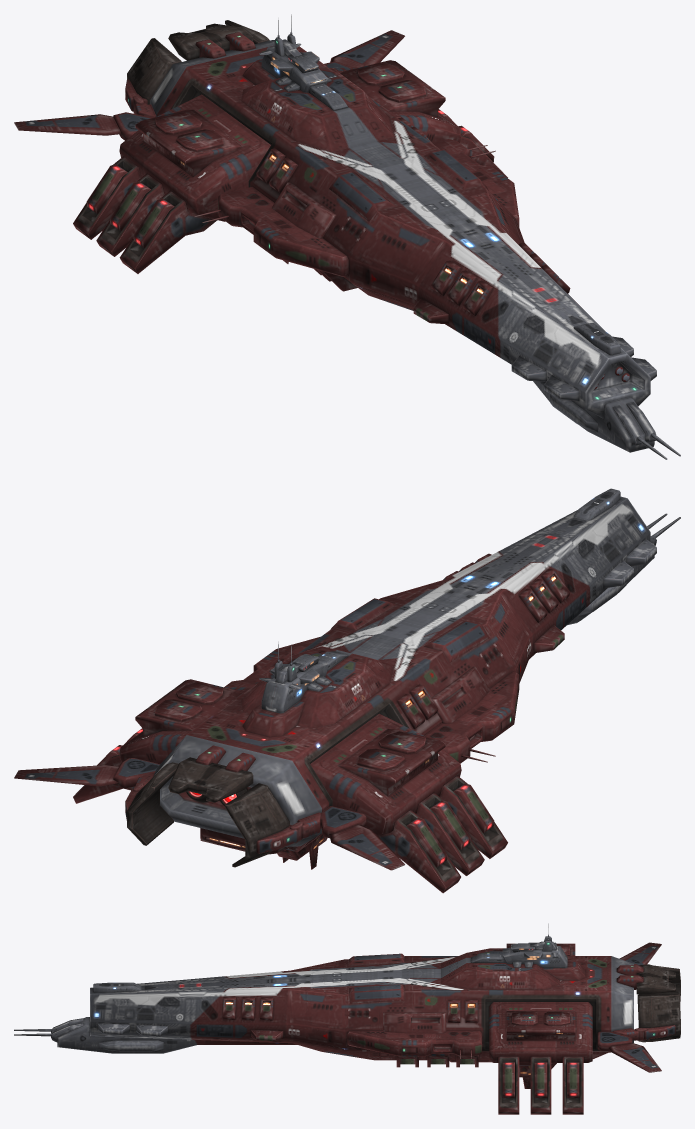
Rendered from reaver-privateer-vekta.glb.
3 views of the same model, one above another, from view 1: azimuth 30°, elevation 25°; view 2: azimuth 150°, elevation 25°; view 3: azimuth 270°, elevation 25° (orthographic). The views are drawn at different scales.
Parts seen in each view (by area): view 1: hull; view 2: hull; view 3: hull.
Boxes of the visible parts, box(x1,y1,x2,y2) form: hull: box(14, 14, 680, 459); hull: box(14, 488, 680, 893); hull: box(14, 923, 680, 1114).
Bounding box in the file's own units: 0.4603 × 0.2645 × 1.
Materials: 1 (1 with a texture image).
